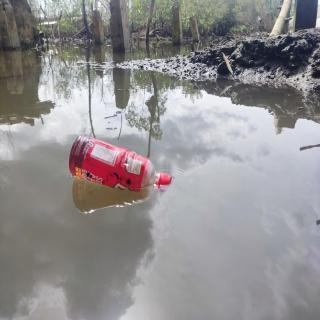bottle: (66, 130, 173, 196)
